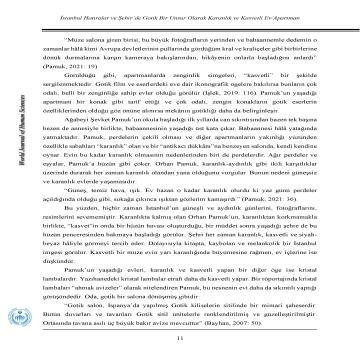header: (59, 14, 304, 22)
